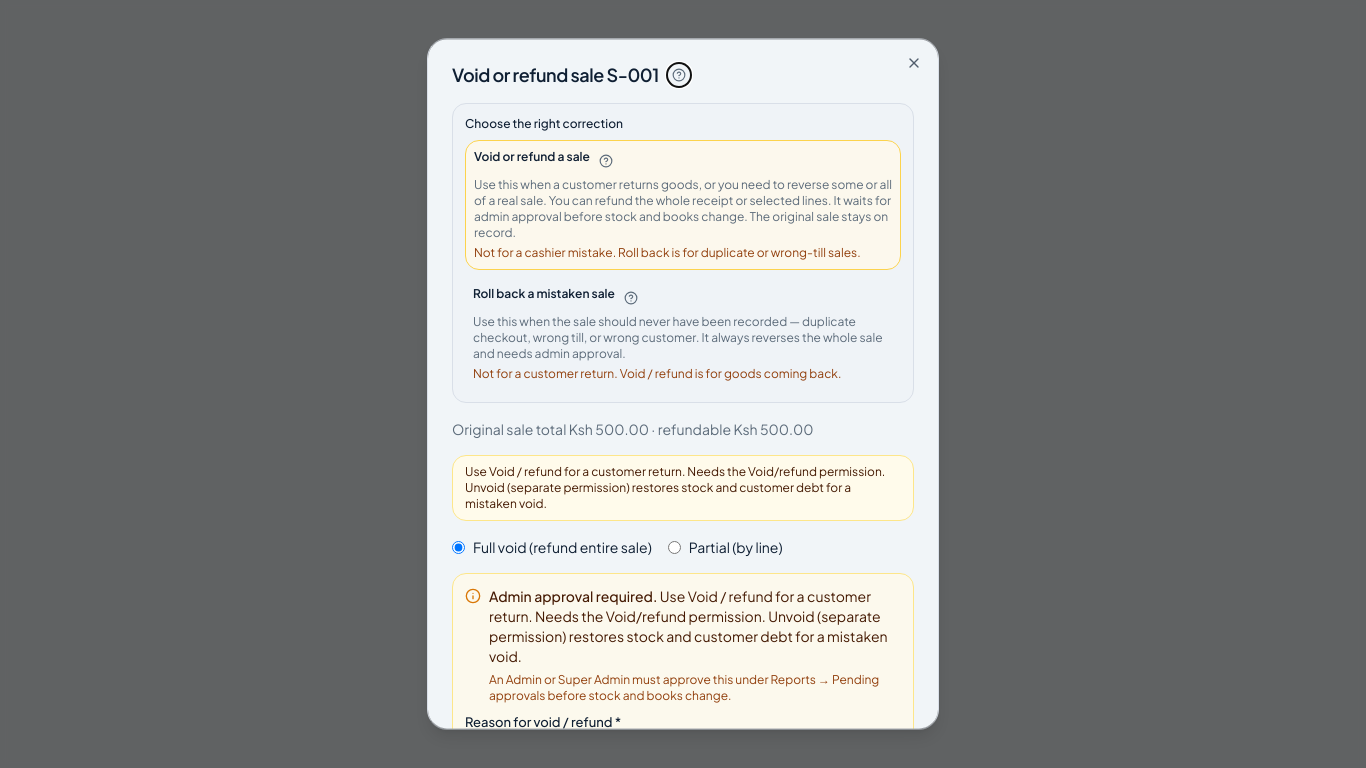
Test: RefundSaleDialog › initializes partial qty from refundable quantity after prior refund
Step 1. Click the radio button labelled "Partial (by line)" → click(674, 547), box [668,541,681,554]
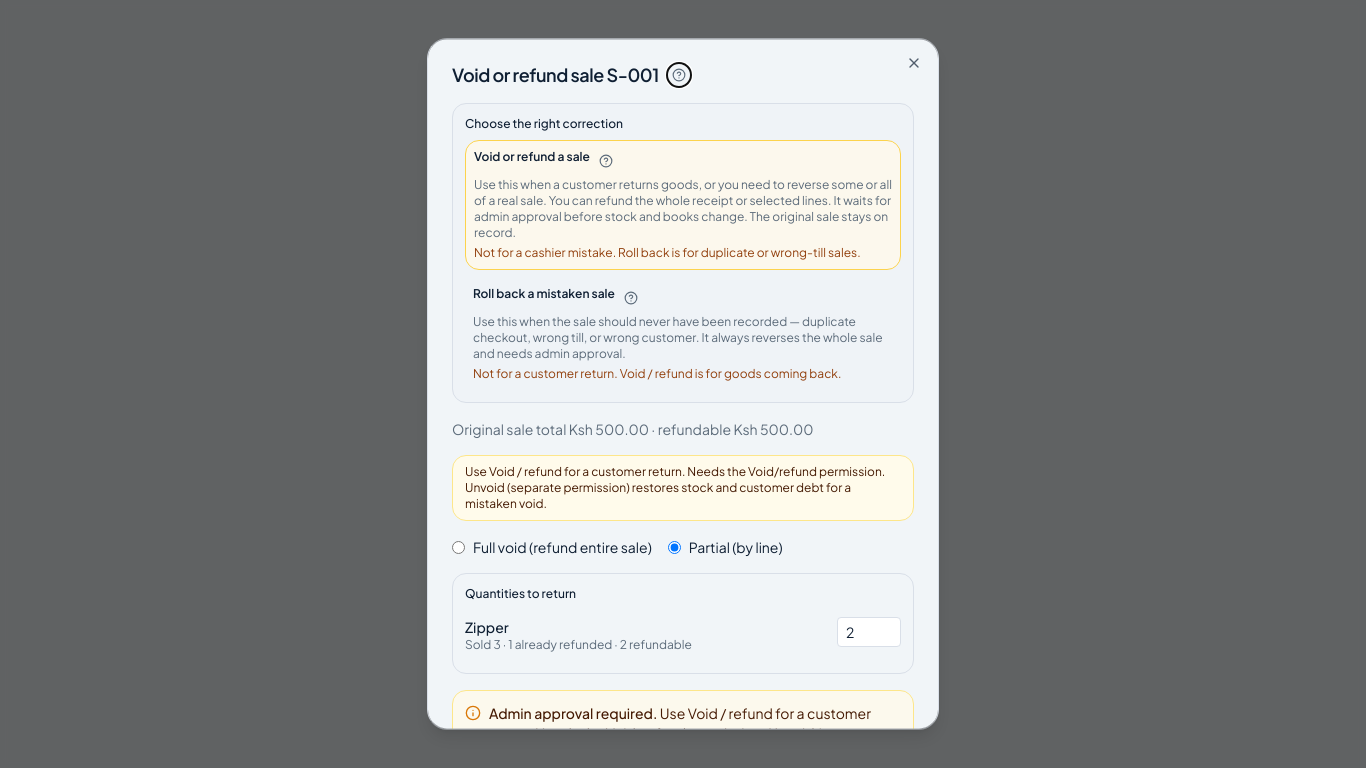
Now the text "Sold 3 · 1 already refunded · 2 refundable" is shown, box [465,637,692,652]
